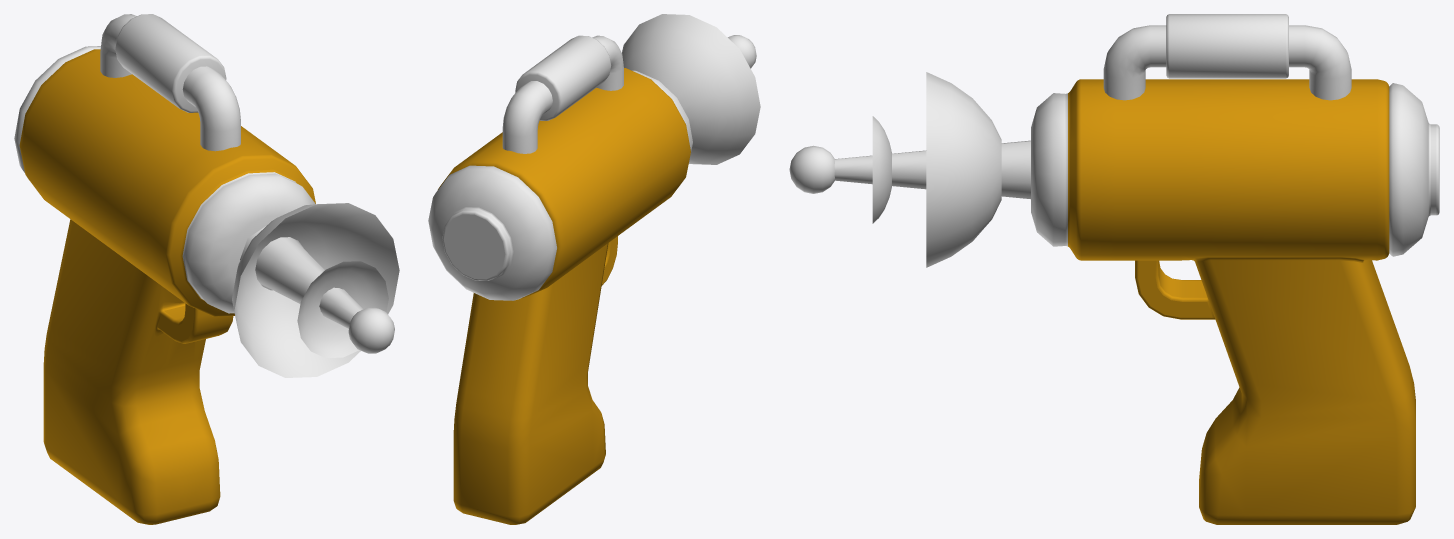
The model's file is SmallLaserPistol.glb.
3 views of the same model, side by side, from view 1: azimuth 30°, elevation 25°; view 2: azimuth 150°, elevation 25°; view 3: azimuth 270°, elevation 25° (orthographic). The views are drawn at different scales.
Visible parts, largest first — view 1: GunMesh; view 2: GunMesh; view 3: GunMesh.
Part boxes in pixels (x1,y1,x2,y2): GunMesh: [14, 14, 399, 524]; GunMesh: [428, 14, 760, 524]; GunMesh: [789, 14, 1439, 524].
Bounding box in the file's own units: 0.0621 × 0.1724 × 0.2057.
